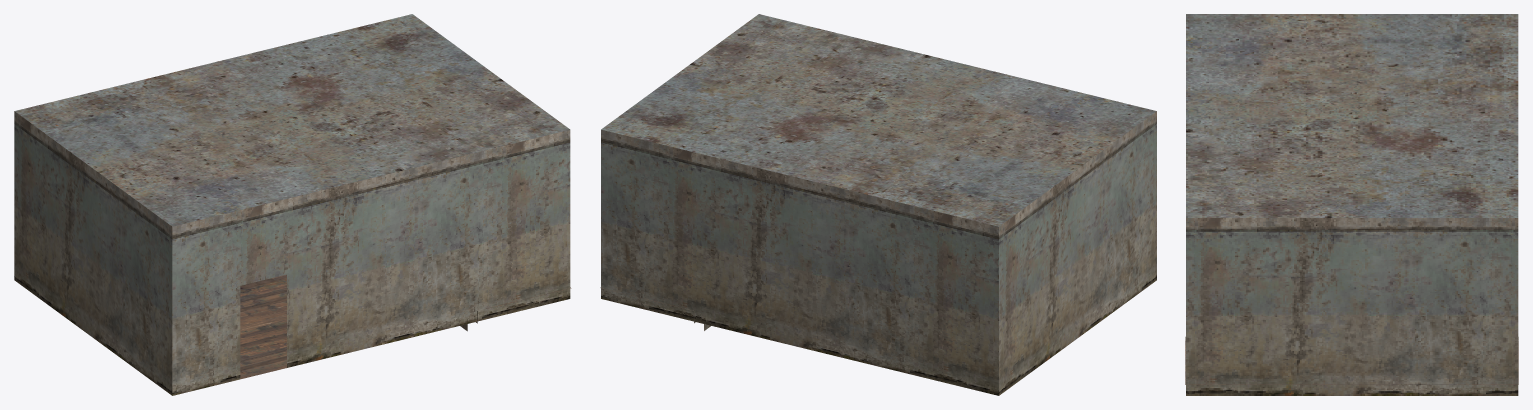
Rendered from _Classroom_2.FBX.
The picture shows the model from 3 angles, left to right: view 1: azimuth 30°, elevation 25°; view 2: azimuth 150°, elevation 25°; view 3: azimuth 270°, elevation 25°; orthographic projection. The views are drawn at different scales.
Parts seen in each view (by area): view 1: _Classroom_2; view 2: _Classroom_2; view 3: _Classroom_2.
Boxes of the visible parts, bbox=[...] form: _Classroom_2: bbox=[14, 14, 571, 395]; _Classroom_2: bbox=[600, 14, 1156, 395]; _Classroom_2: bbox=[1185, 14, 1518, 395].
Size of the model in its own units: 801 by 339 by 552.
4 materials, 4 textured.
